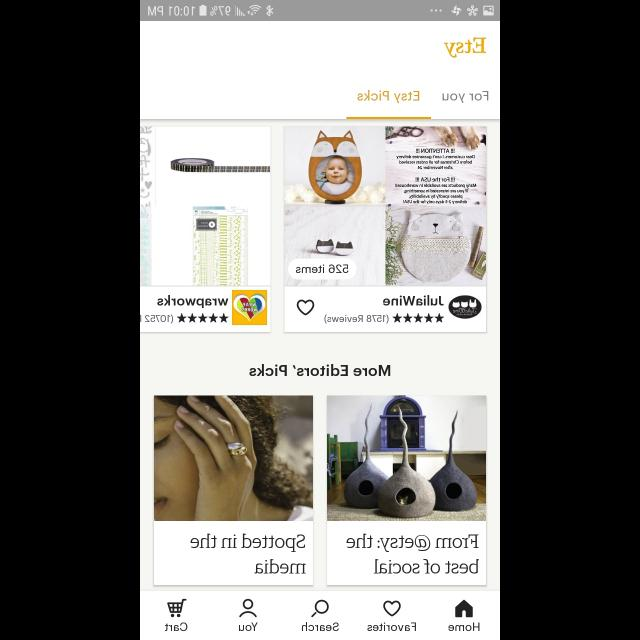icon: (176, 313, 228, 323), (392, 313, 444, 323), (167, 598, 187, 618), (239, 598, 257, 618), (311, 599, 329, 617), (455, 599, 473, 617), (383, 600, 401, 616), (297, 300, 315, 316)
image: (284, 128, 486, 286), (140, 127, 270, 286), (326, 395, 486, 521), (154, 396, 314, 520), (232, 290, 266, 326), (448, 296, 480, 318)
text: (346, 534, 478, 574), (190, 534, 306, 574), (250, 364, 390, 376), (357, 90, 419, 104), (158, 296, 228, 308), (444, 38, 486, 58), (383, 294, 443, 306), (324, 314, 388, 324), (442, 91, 488, 103), (368, 622, 417, 632), (302, 621, 338, 631), (140, 314, 172, 324), (448, 622, 479, 632), (165, 622, 188, 632), (238, 622, 258, 632)
uppertaskbar: (140, 1, 500, 22)
